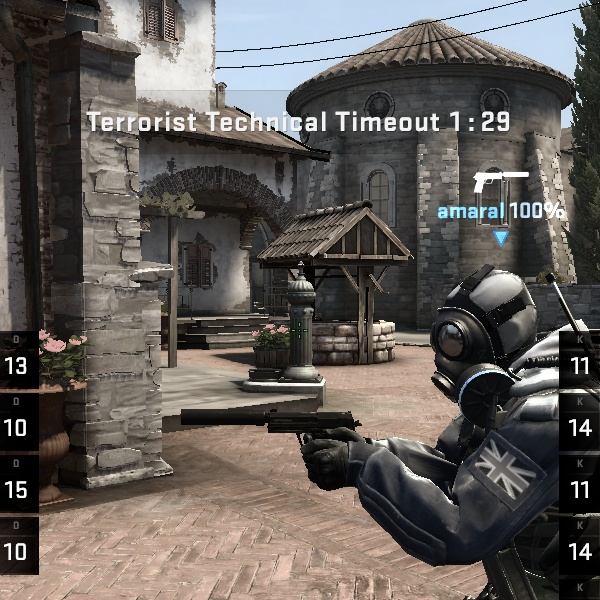ct_body: (338, 260, 594, 592)
